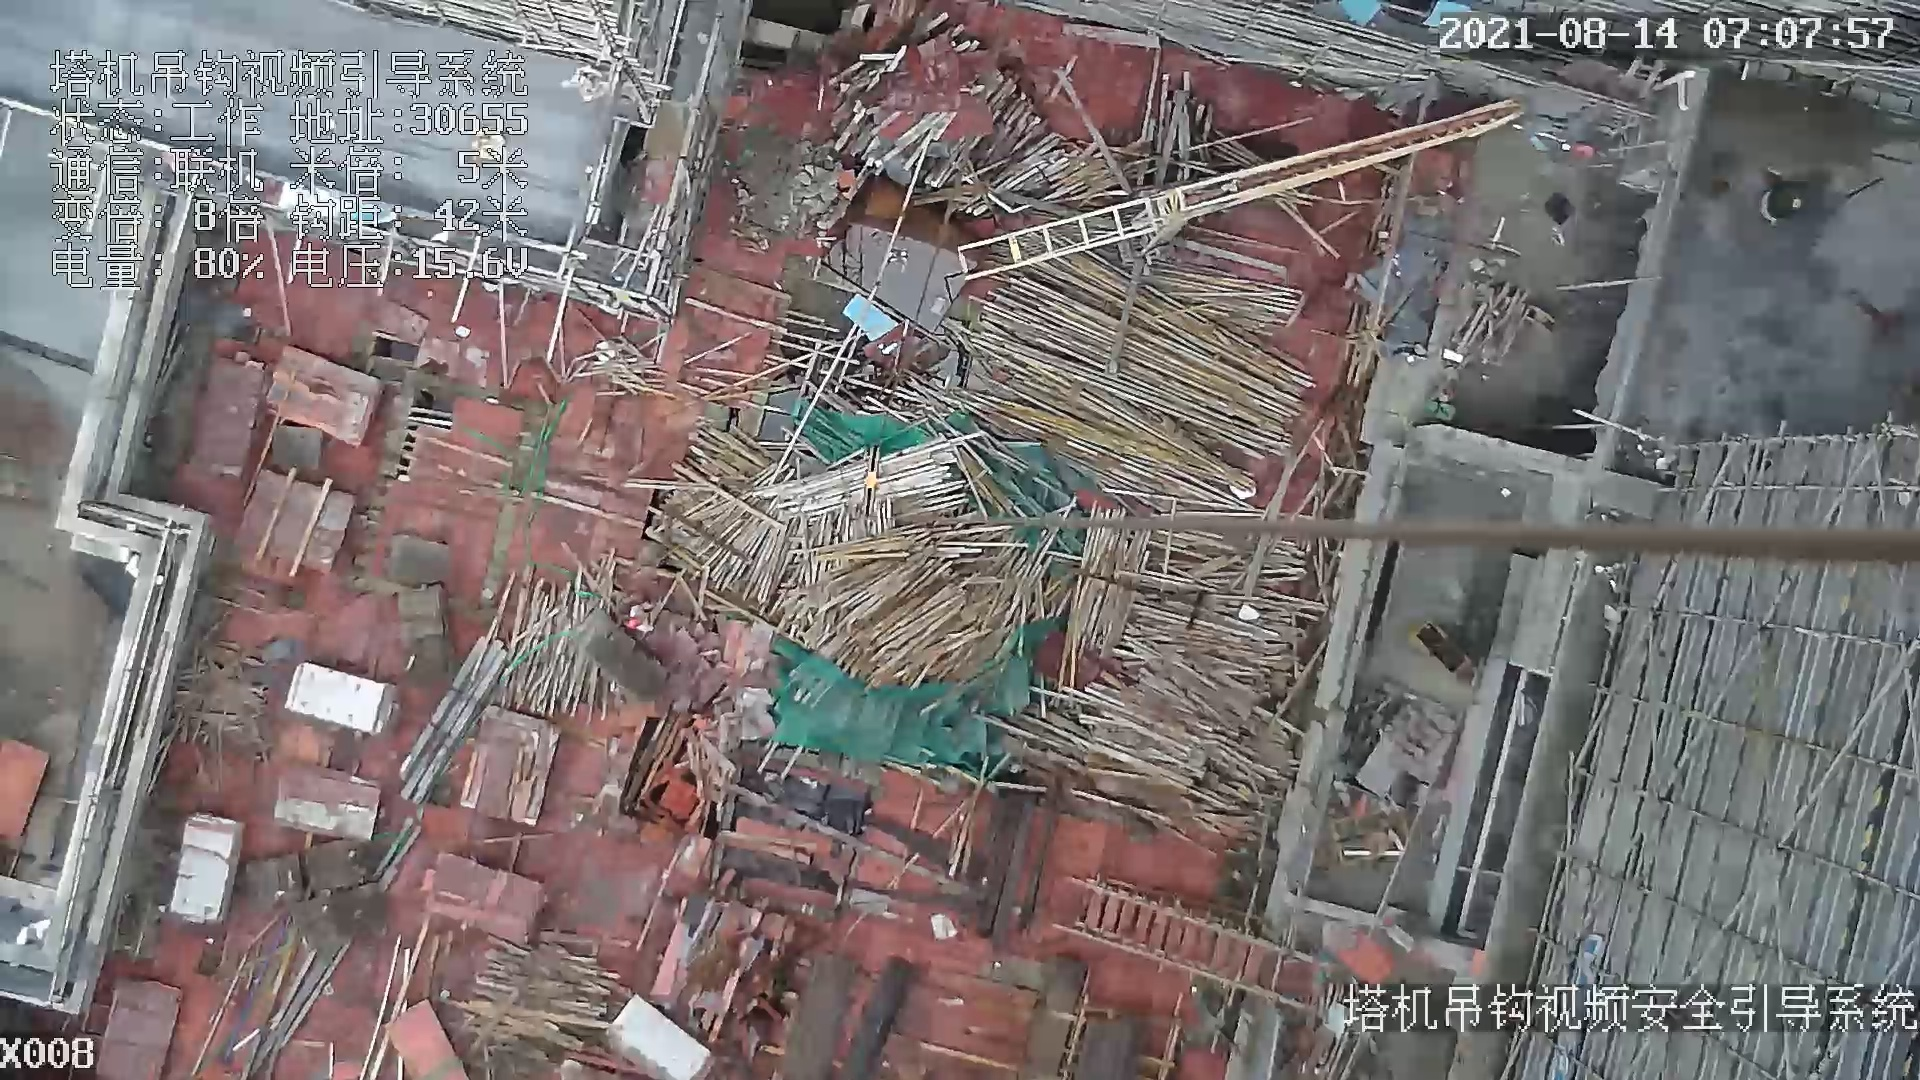hook: (858, 444, 887, 527)
